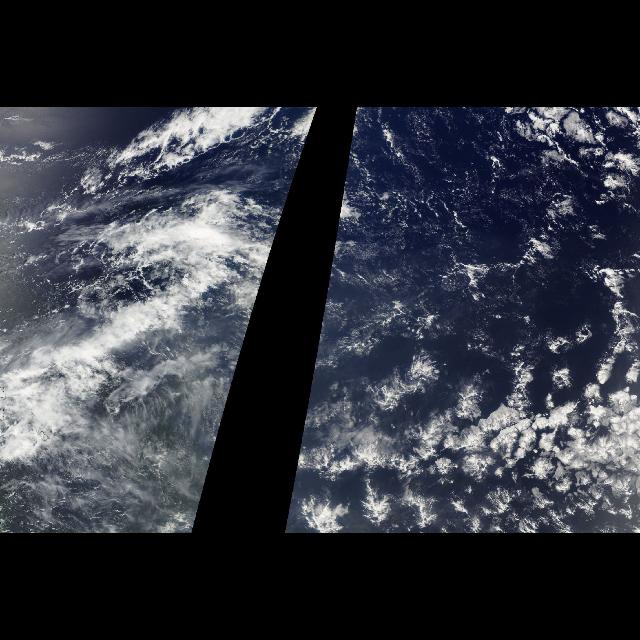Fish: (354, 463, 436, 529)
Flower: (284, 338, 640, 532)
Gravel: (68, 110, 316, 334), (319, 110, 546, 334)
Sugar: (364, 114, 544, 253)
